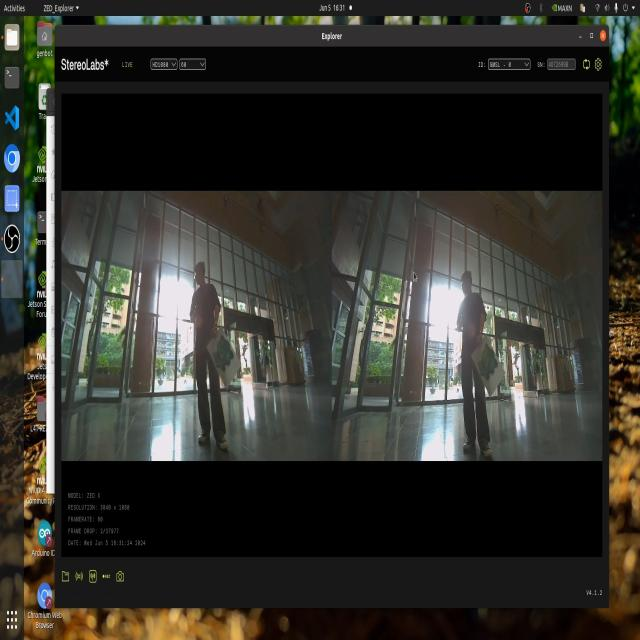green: (475, 344, 501, 387), (214, 332, 232, 375)
